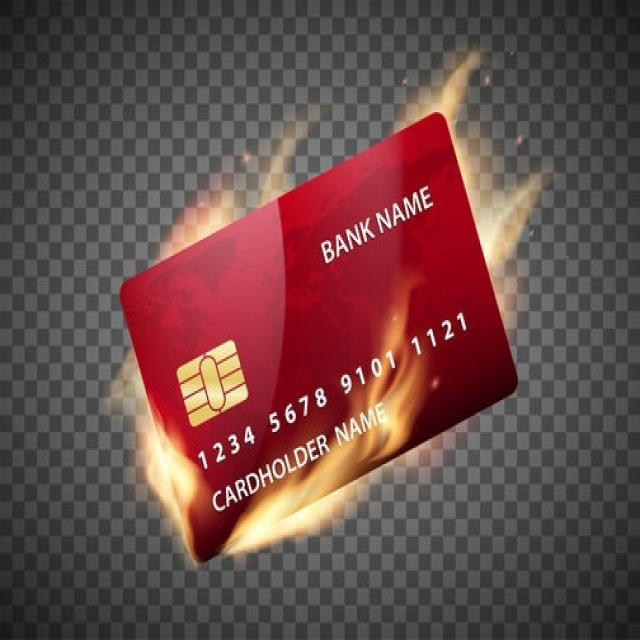payment_card: (117, 110, 519, 563)
